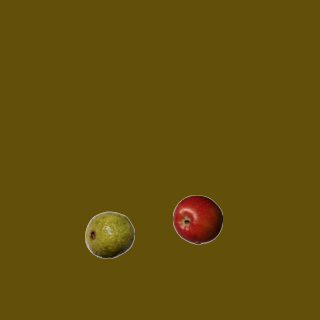Apple Braeburn: (172, 194, 222, 244)
Guava: (84, 209, 134, 259)
